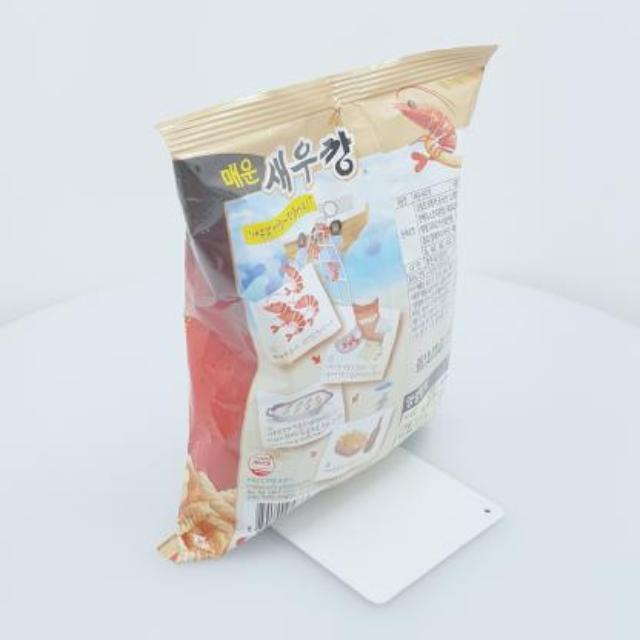snack_bag: (150, 36, 502, 572)
